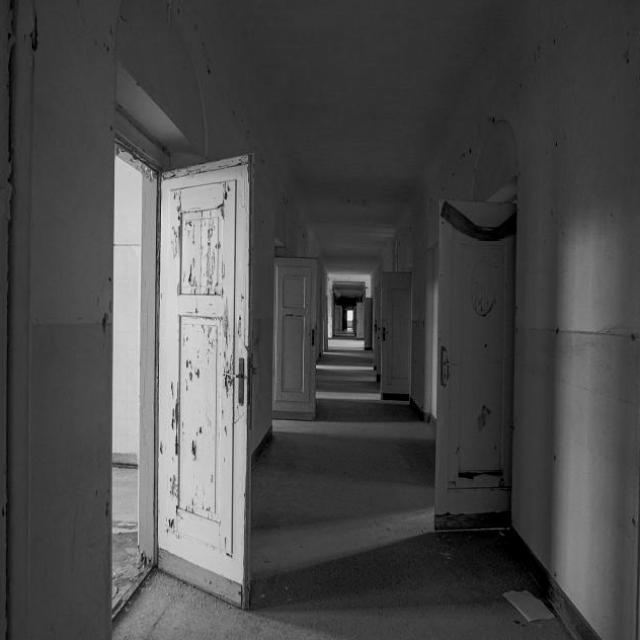door: (155, 154, 250, 594), (426, 192, 524, 536), (266, 251, 322, 423), (367, 256, 417, 404)
